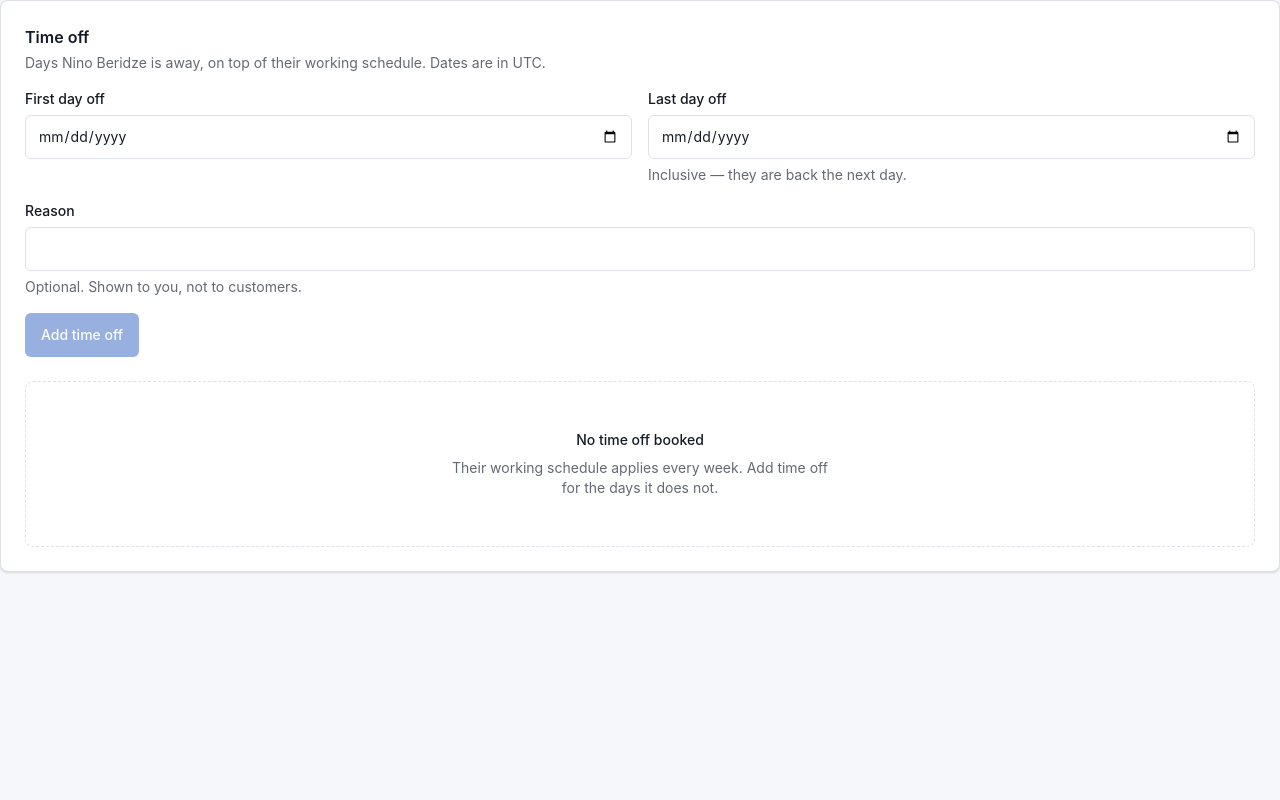
TimeOffSection, when a write is refused › banners the server sentence when the add is refused
This screenshot has width=1280, height=800.
Type "2026-10-05" into the date field labelled "First day off" at (328, 137), box [25,115,632,159]
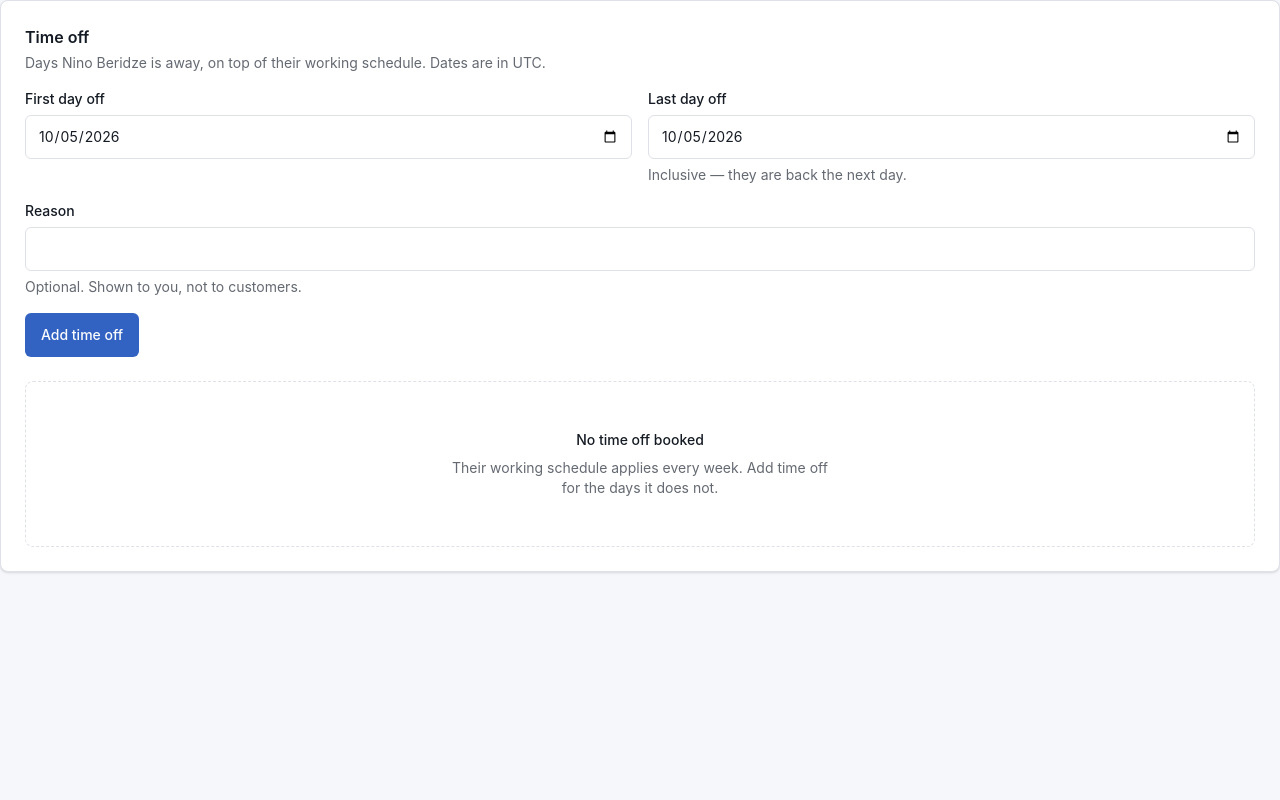
Type "2026-10-09" into the date field labelled "Last day off" at (952, 137), box [648,115,1255,159]
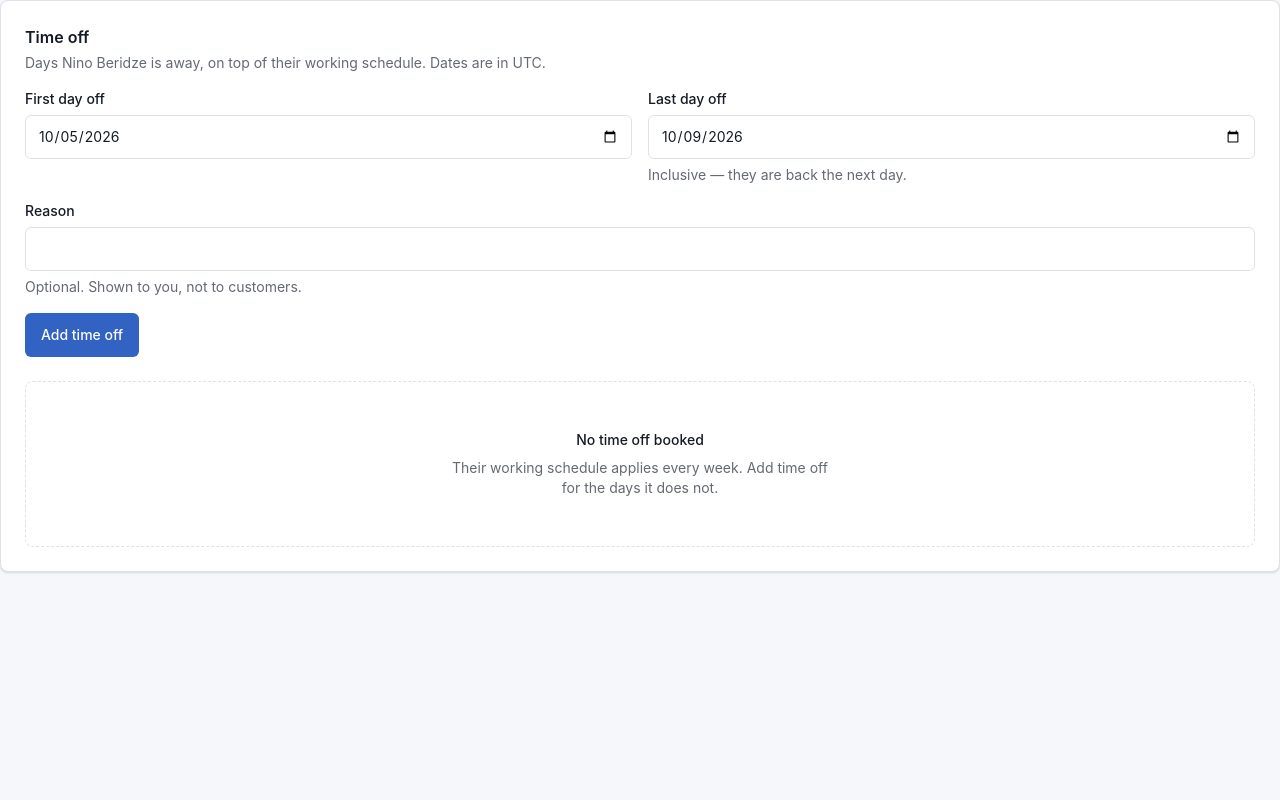
Click the button "Add time off" at (82, 335), box [25,313,139,357]
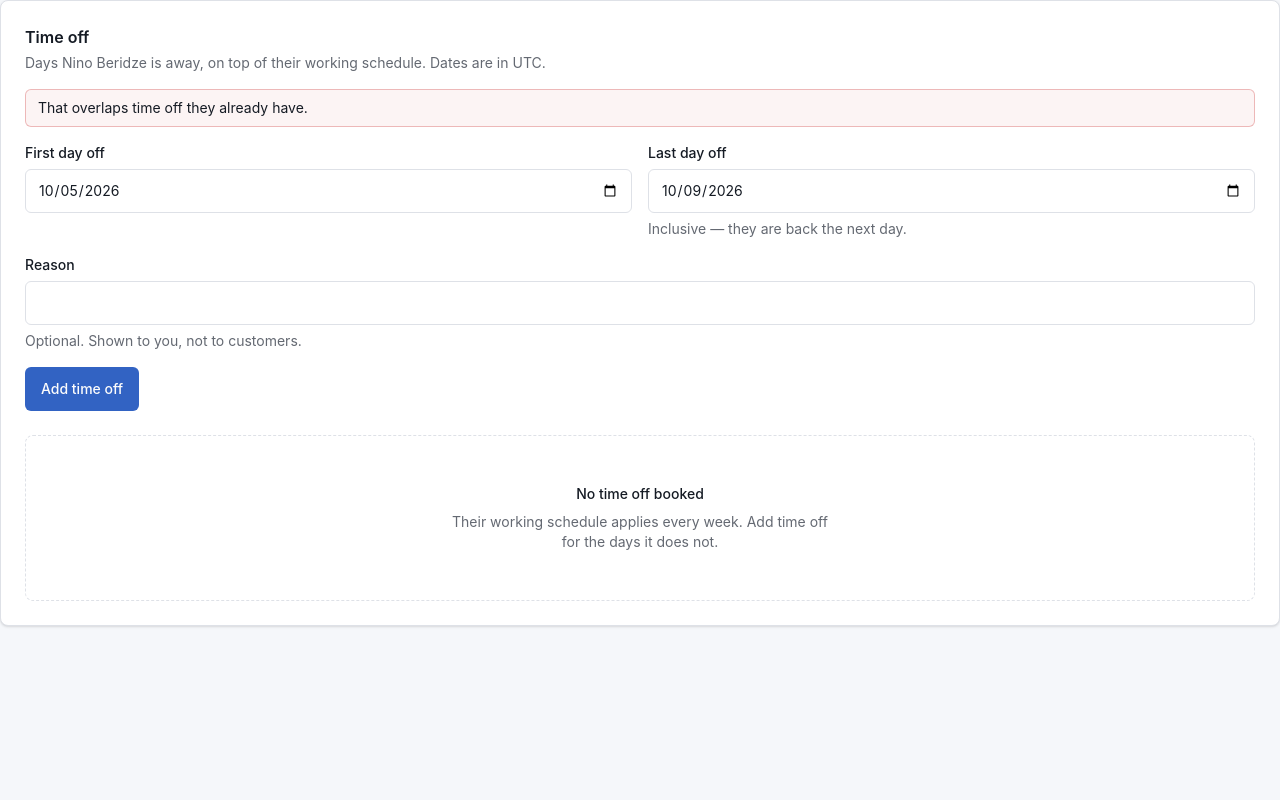
Expected: the message reads "That overlaps time off they already have.", [38,99,308,116]
